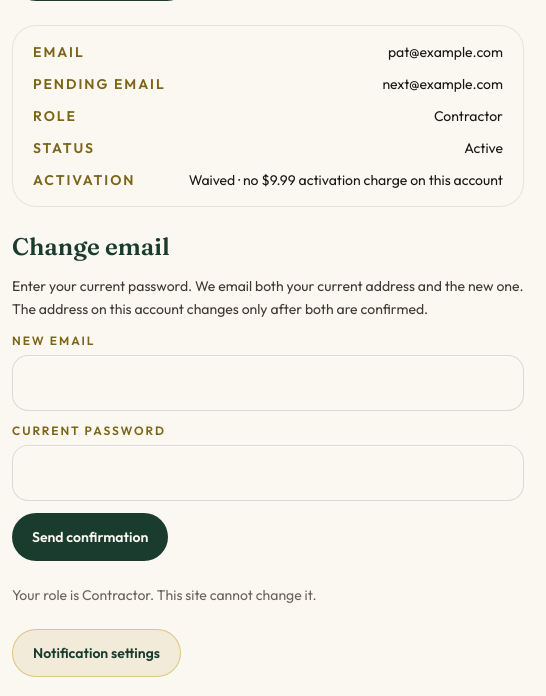
Test: AccountPage email change › asks Auth to email both addresses and shows a pending address
(page scrolled)
expect the text "next@example.com" is shown: met, box [382,74,503,94]
Type "other@example.com" into the field labelled "New email" at (268, 382), box [12,354,524,410]
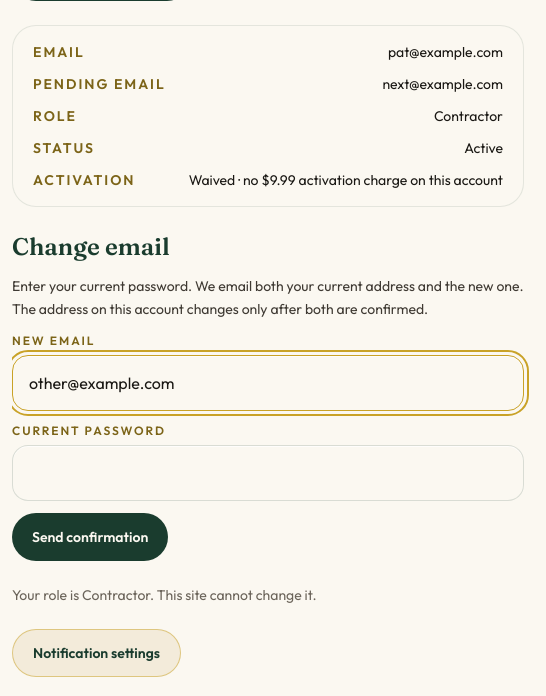
Type "correct-horse" into the password field labelled "Current password" at (268, 472), box [12,444,524,500]
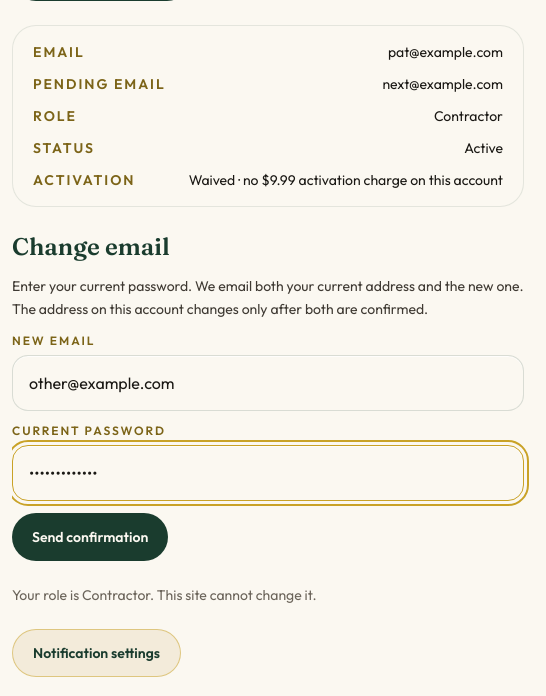
Click the button "Send confirmation" at (90, 536), box [12,512,168,560]
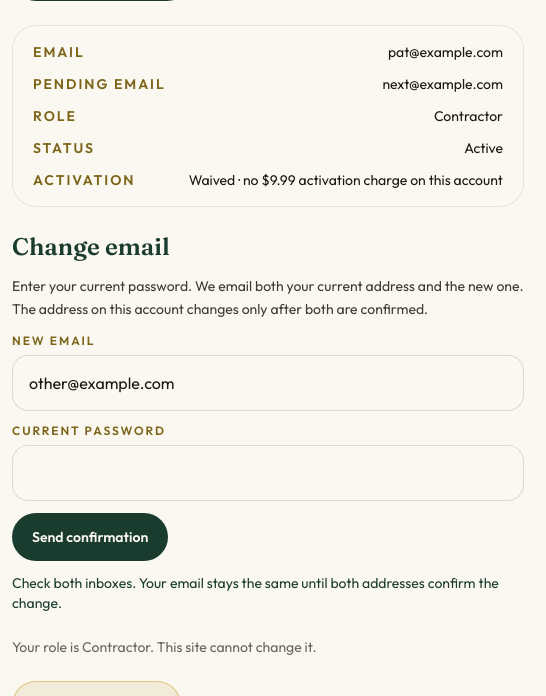
expect the text "Check both inboxes. Your email stays the same until both addresses confirm the change." is shown: met, box [12,574,499,612]
